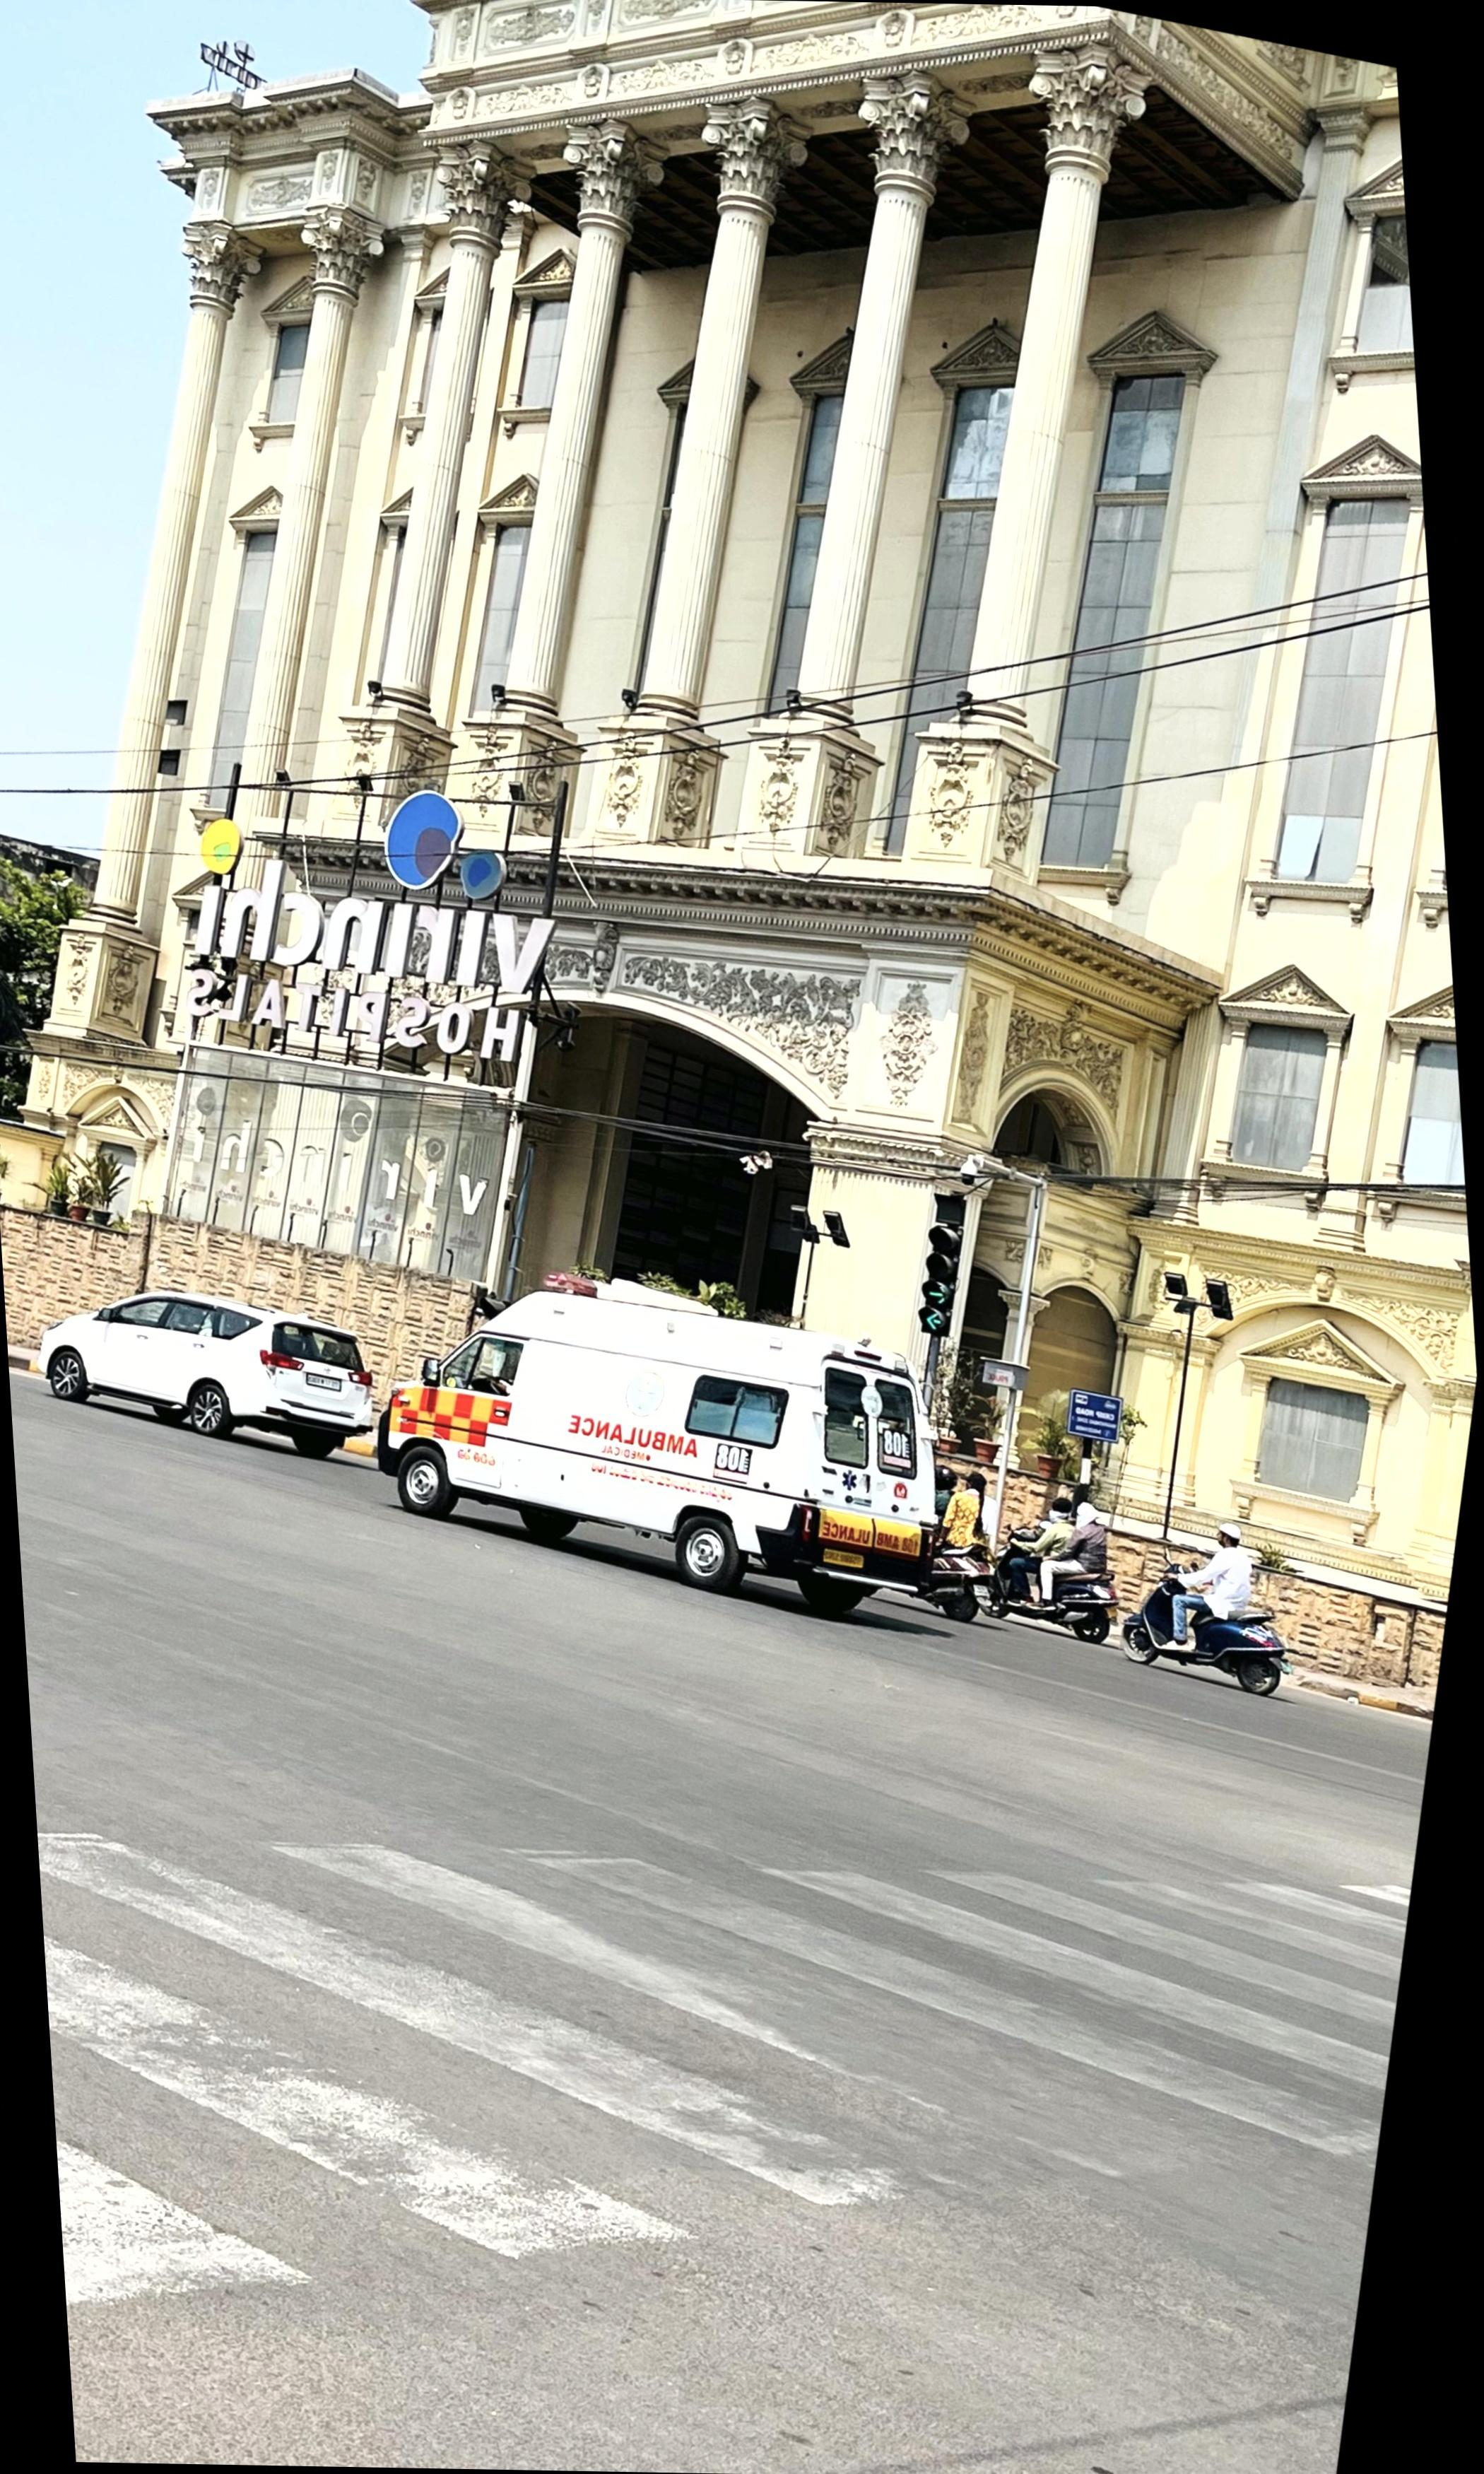ambulance: (410, 1281, 940, 1605)
